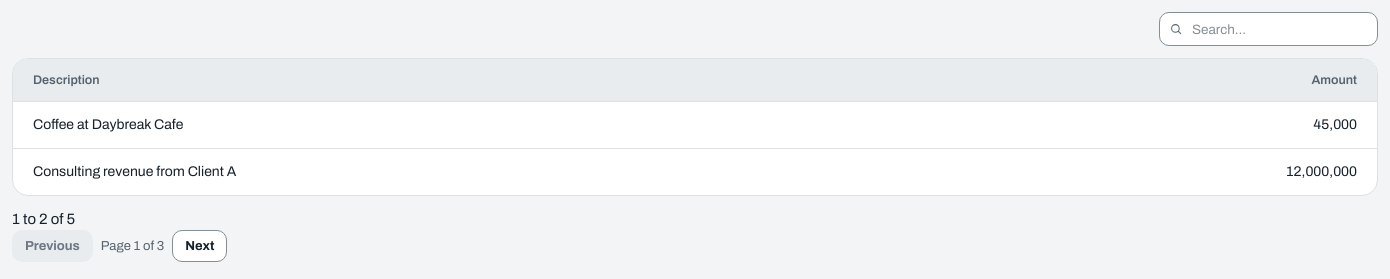
Scenario: DataTable › paginates data according to pageSize
Expected: the text "Coffee at Daybreak Cafe" is shown, [33,117,183,132]
Expected: the text "Consulting revenue from Client A" is shown, [33,164,236,179]
# Next page
Click the button "Next": click(200, 246) [172,230,228,262]
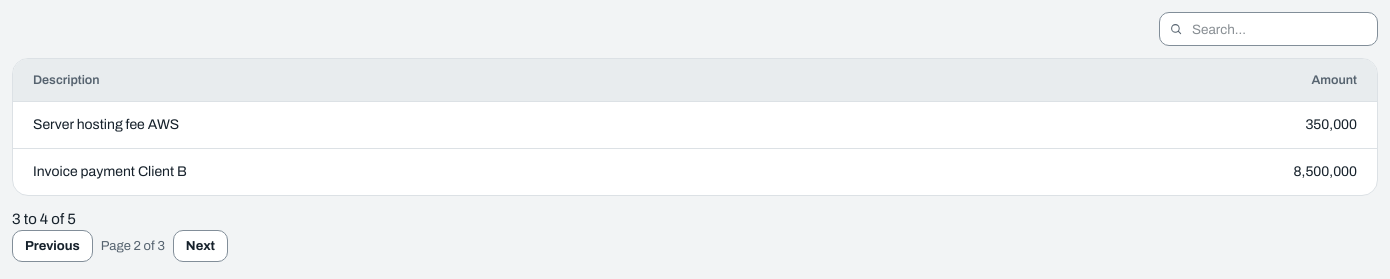
Expected: the text "Server hosting fee AWS" is shown, [33,117,179,132]
Expected: the text "Invoice payment Client B" is shown, [33,164,187,179]
Expected: the text "Coffee at Daybreak Cafe" is gone
